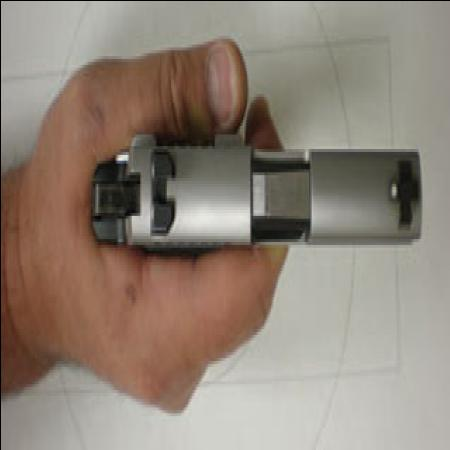Pistol: (89, 131, 423, 258)
